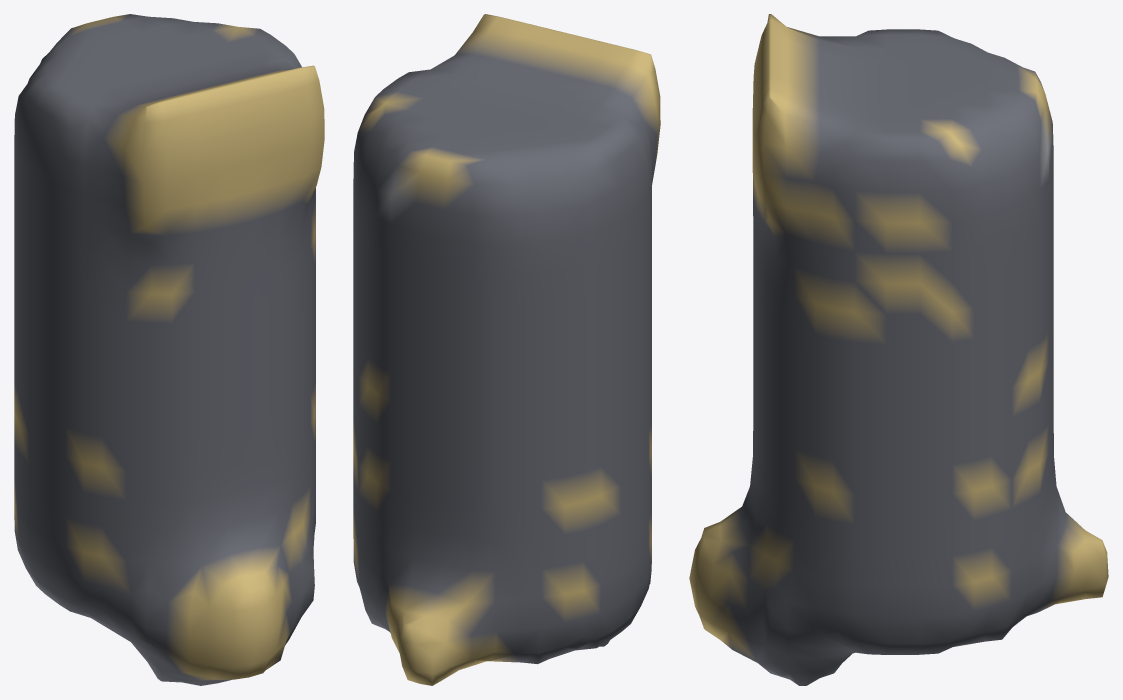
File: plate_legendary_leg_L_lod1.glb
3 views of the same model, side by side, from view 1: azimuth 30°, elevation 25°; view 2: azimuth 150°, elevation 25°; view 3: azimuth 270°, elevation 25° (orthographic). The views are drawn at different scales.
Visible parts, largest first — view 1: plate_legendary_leg_L_lod1; view 2: plate_legendary_leg_L_lod1; view 3: plate_legendary_leg_L_lod1.
Part boxes in pixels (bbox=[...]): plate_legendary_leg_L_lod1: bbox=[14, 14, 324, 685]; plate_legendary_leg_L_lod1: bbox=[353, 14, 660, 685]; plate_legendary_leg_L_lod1: bbox=[689, 14, 1108, 685].
Size of the model in its own units: 0.215 by 0.4792 by 0.3.
